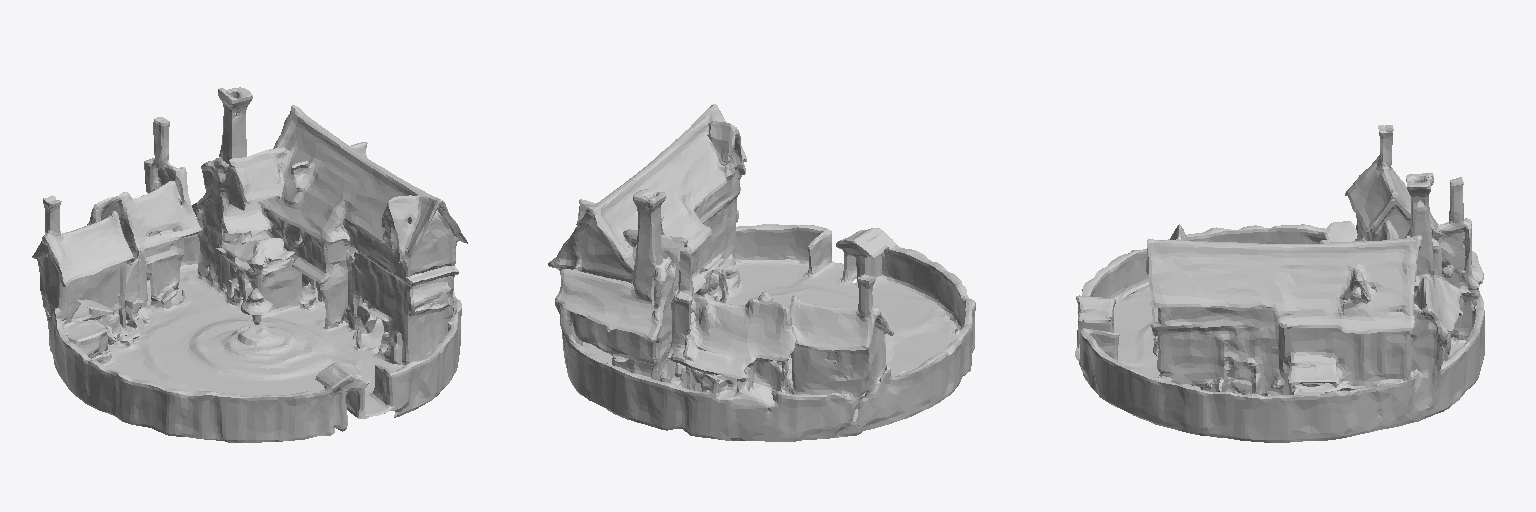
The model's file is A_small_midevil_villa_0919133208_preview.obj.
3 views of the same model, side by side, from view 1: azimuth 30°, elevation 25°; view 2: azimuth 150°, elevation 25°; view 3: azimuth 270°, elevation 25° (orthographic).
Parts seen in each view (by area): view 1: Mesh1; view 2: Mesh1; view 3: Mesh1.
Part boxes in pixels (bbox=[...]): Mesh1: bbox=[32, 87, 467, 442]; Mesh1: bbox=[548, 104, 975, 441]; Mesh1: bbox=[1075, 125, 1484, 442].
Size of the model in its own units: 1.99 by 1.1 by 1.99.